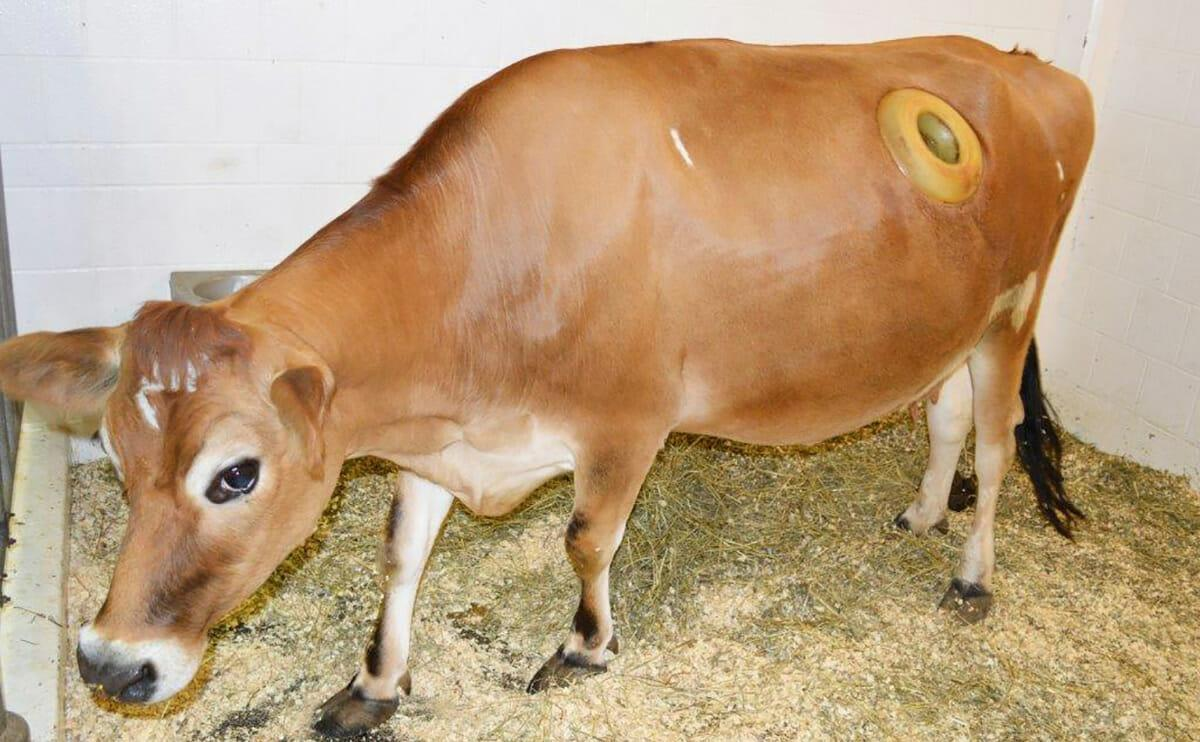cow: (0, 36, 1095, 731)
